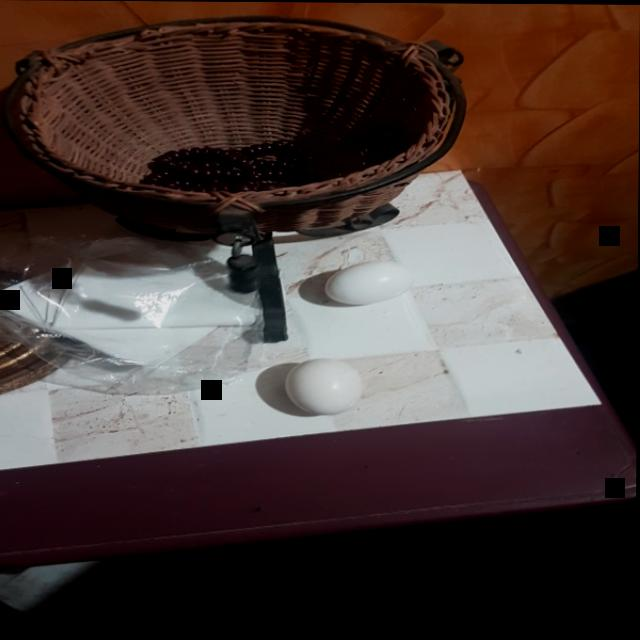eggs: (322, 253, 421, 310), (285, 355, 364, 414)
